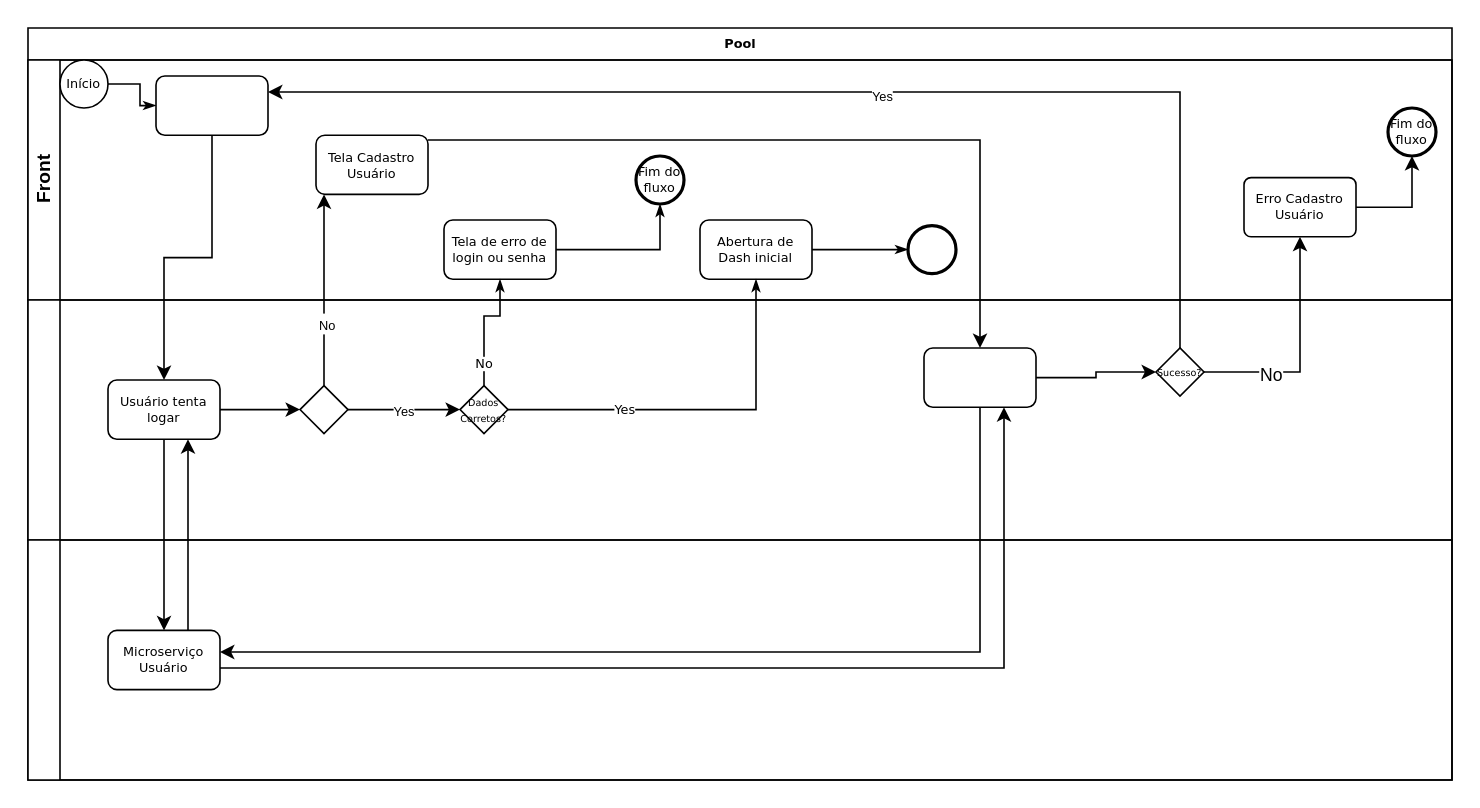
Image size: 1480x808. Some labels were removed from this diagram. The box of each missing label's shape, as (x1, y1, x2, y2) in pixels:
Back: (26, 538, 1452, 780)
Fim desse Fluxo: (906, 223, 957, 274)
Gateway: (26, 298, 1452, 540)
Possui Cadastro?: (298, 384, 348, 434)
Tela Login Site: (154, 74, 268, 135)
Usuário tenta Cadastrar: (922, 346, 1036, 407)
